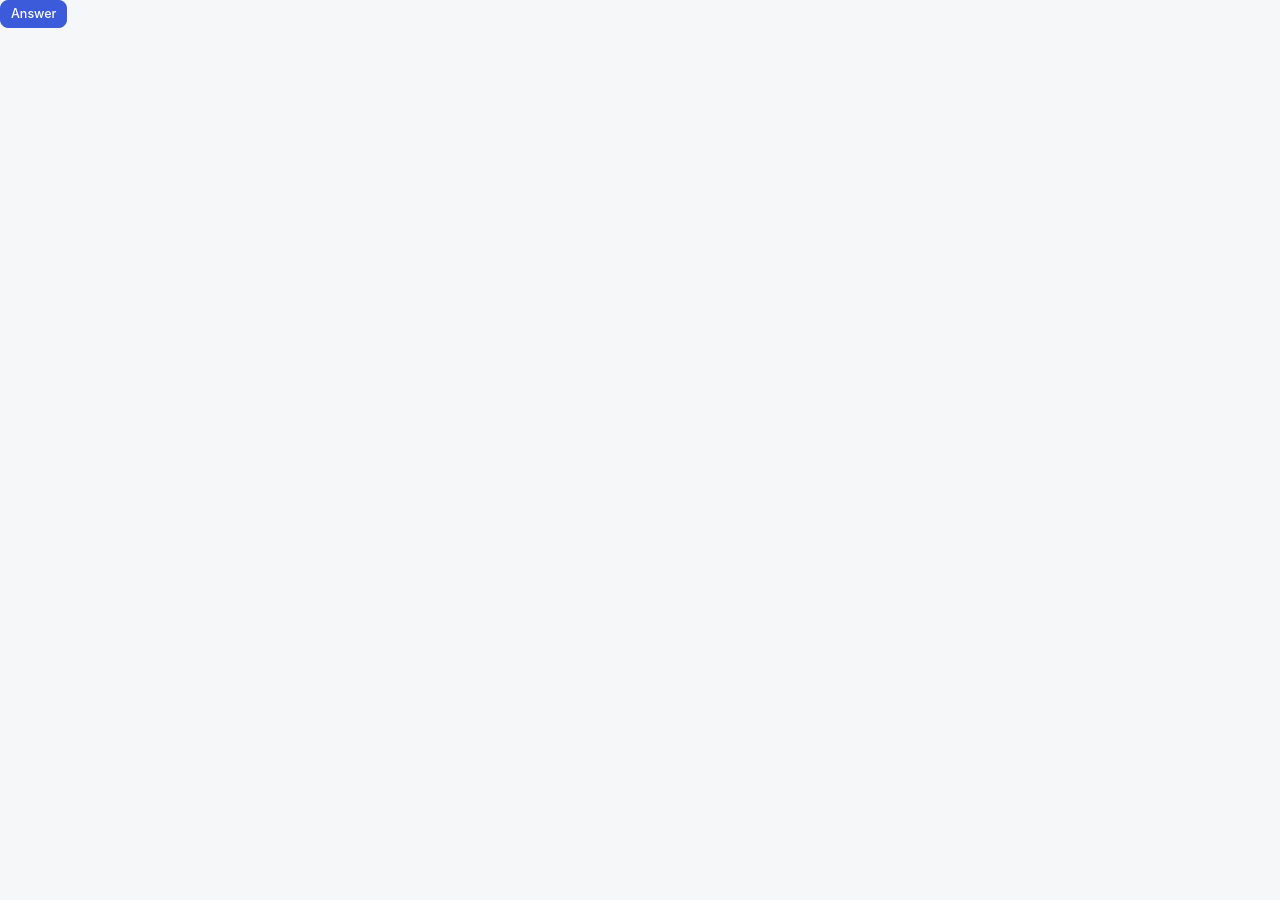
the answer dialog › picks the recommendation in two actions
Click the button with aria-label "Answer codex on RCP-17": (34, 14) [0,0,68,28]
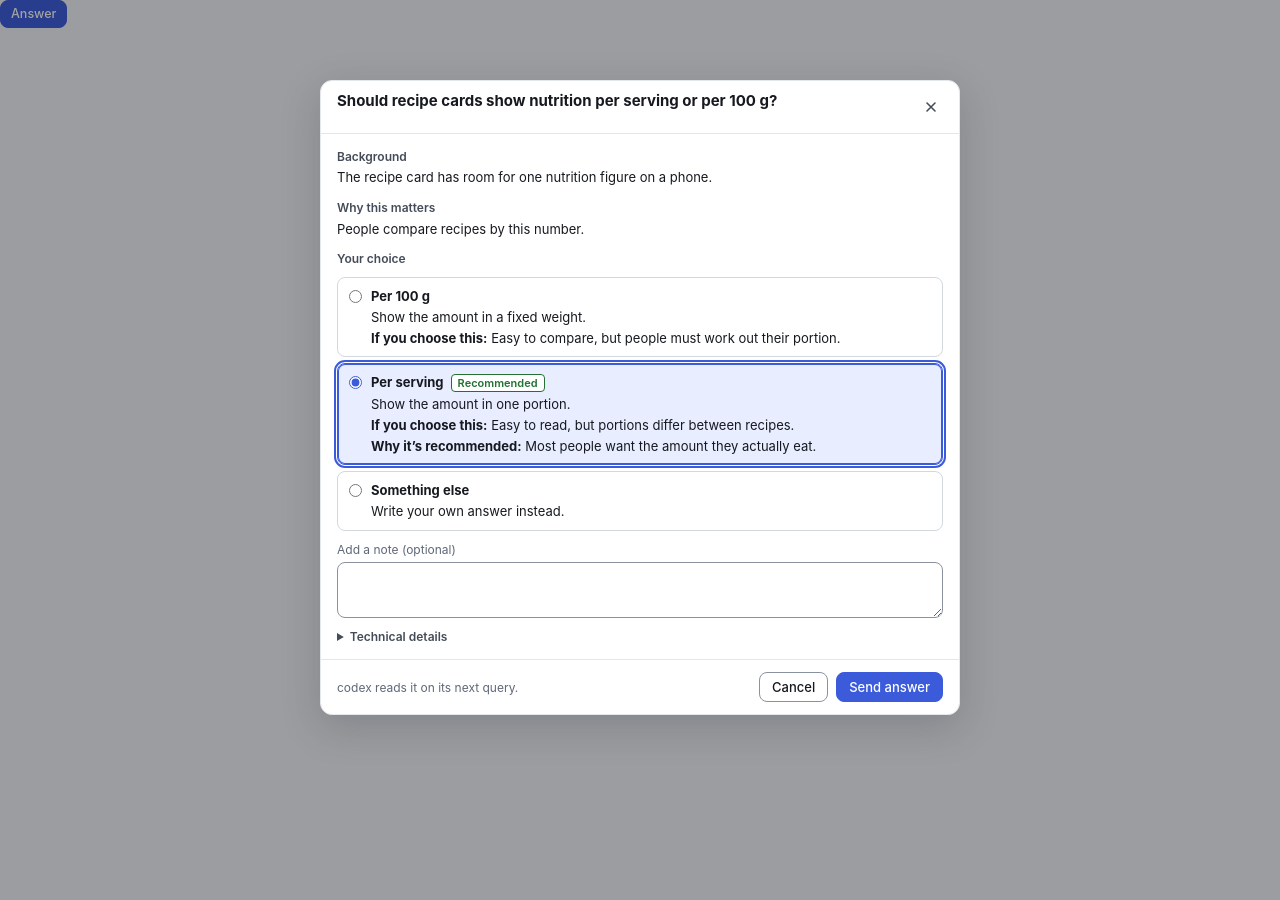
Now the radio button labelled "Per serving" is checked, box [349,376,362,389]
Click the button "Send answer": (890, 687) [836,672,943,702]
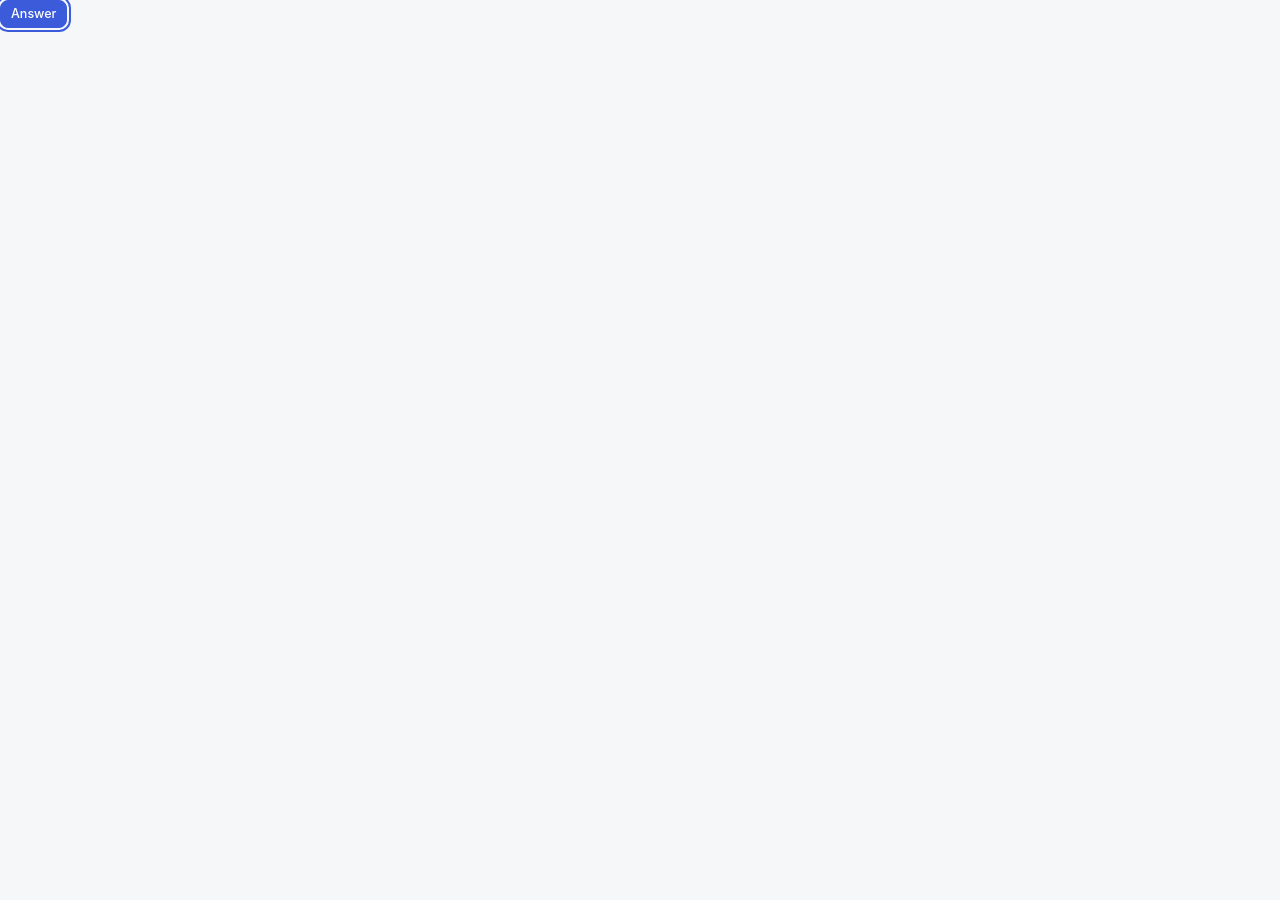
Now the dialog is gone
